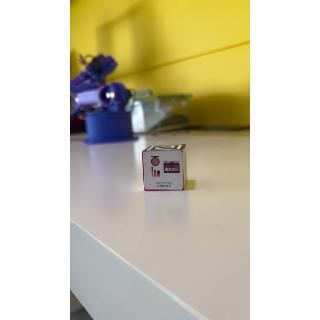Expired_Cosmetic: (145, 153, 187, 193)
